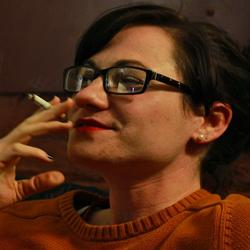smoking: (1, 91, 75, 211)
